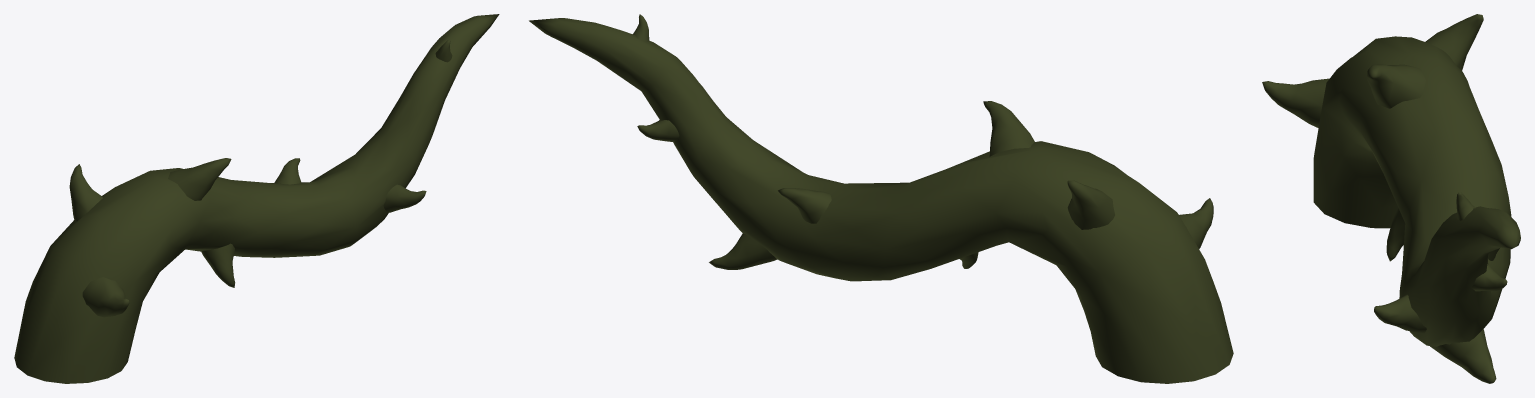
Rendered from Dev_Env_Vine_Spikes2.fbx.
The picture shows the model from 3 angles, left to right: view 1: azimuth 30°, elevation 25°; view 2: azimuth 150°, elevation 25°; view 3: azimuth 270°, elevation 25°; orthographic projection. The views are drawn at different scales.
Visible parts, largest first — view 1: Env_Vine_Spikes2; view 2: Env_Vine_Spikes2; view 3: Env_Vine_Spikes2.
Boxes of the visible parts, x1,y1,x2,y2 form: Env_Vine_Spikes2: (14, 14, 499, 383); Env_Vine_Spikes2: (529, 14, 1233, 383); Env_Vine_Spikes2: (1262, 14, 1520, 383).
Size of the model in its own units: 300 by 110 by 96.98.
